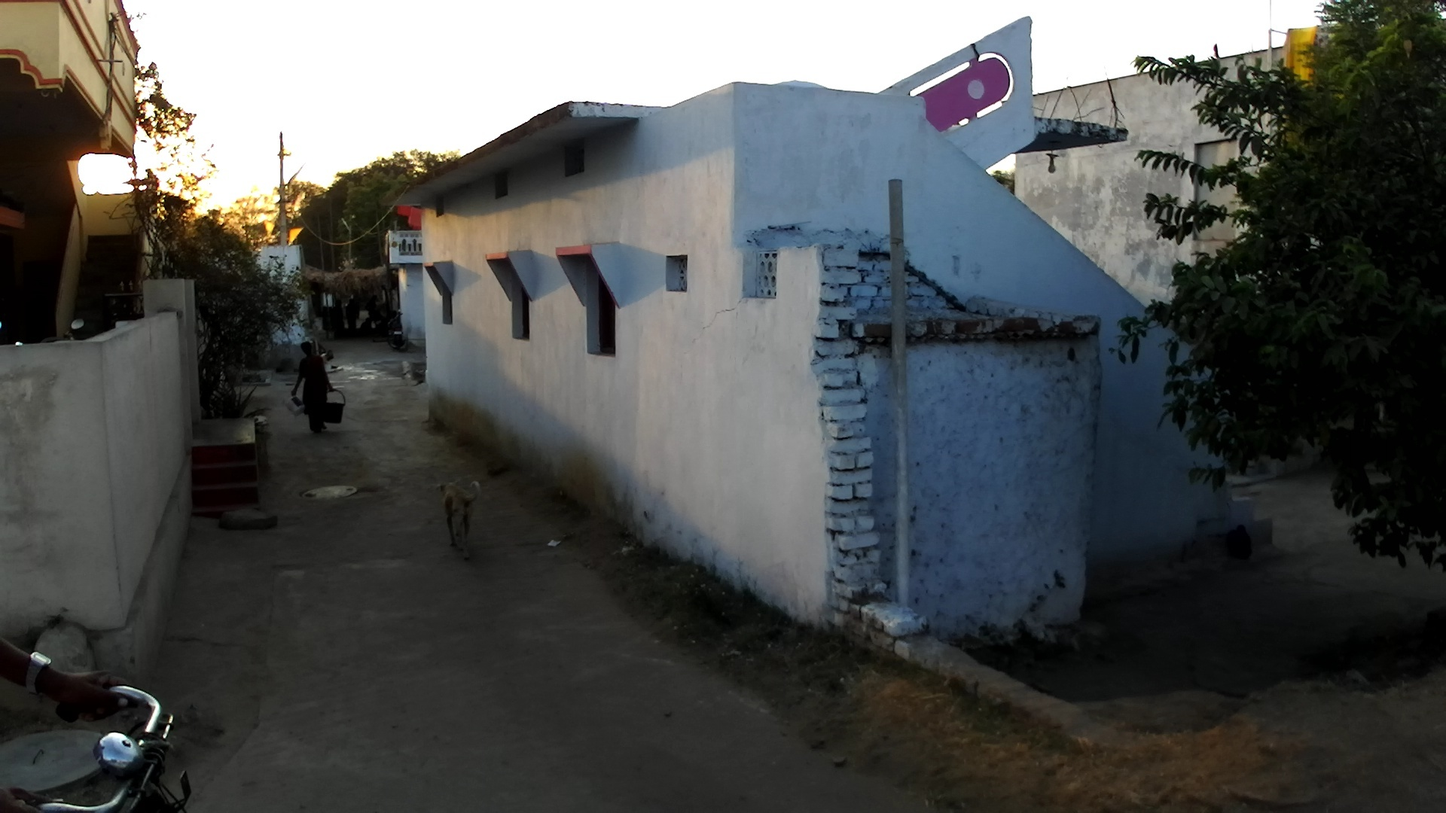animal: (438, 481, 482, 564)
bicycle: (7, 678, 194, 813)
motorcycle: (383, 308, 409, 354)
person: (285, 340, 349, 436), (345, 297, 360, 340), (358, 316, 374, 339)
rider: (1, 647, 125, 813)
